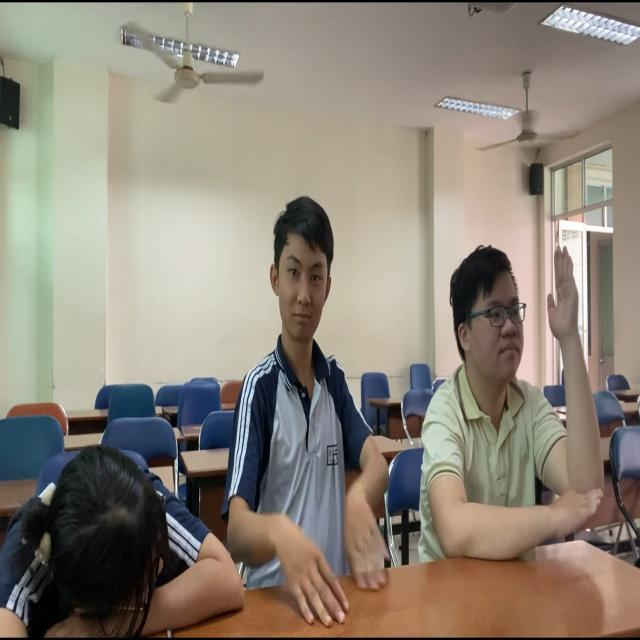raise_hand: (425, 228, 610, 556)
sleep: (1, 434, 234, 640)
